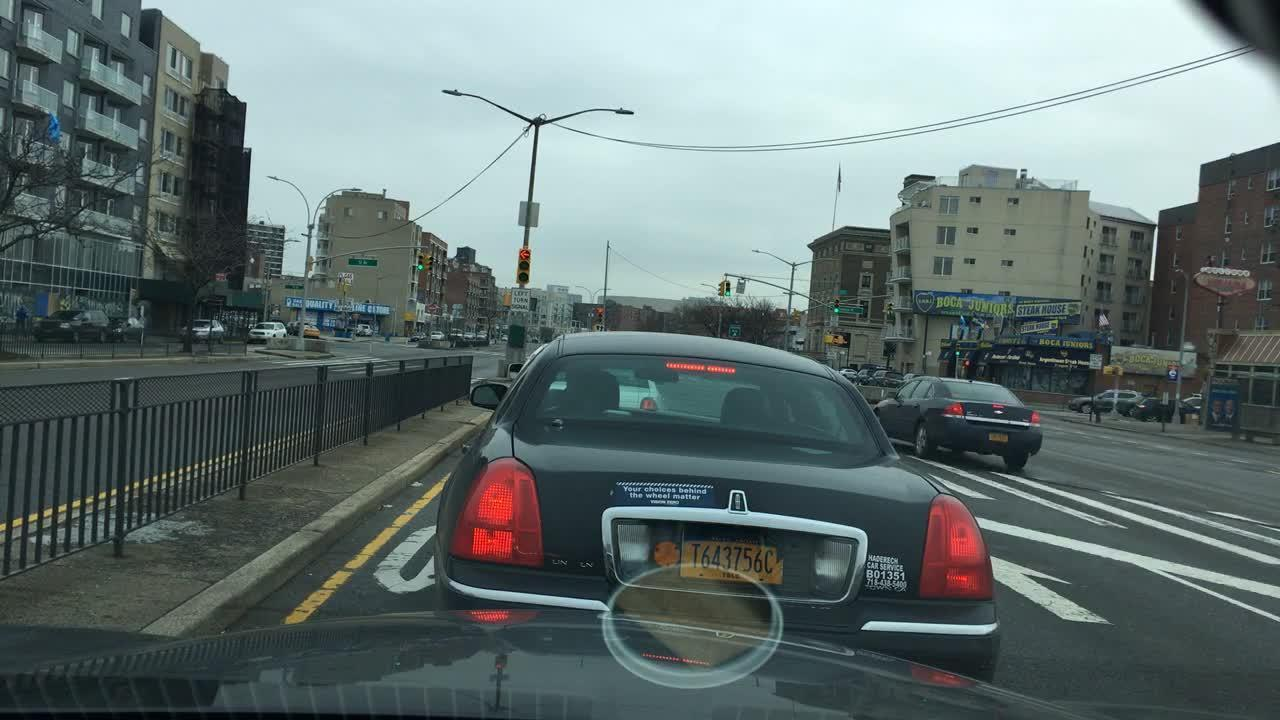lincoln: (726, 485, 752, 518)
